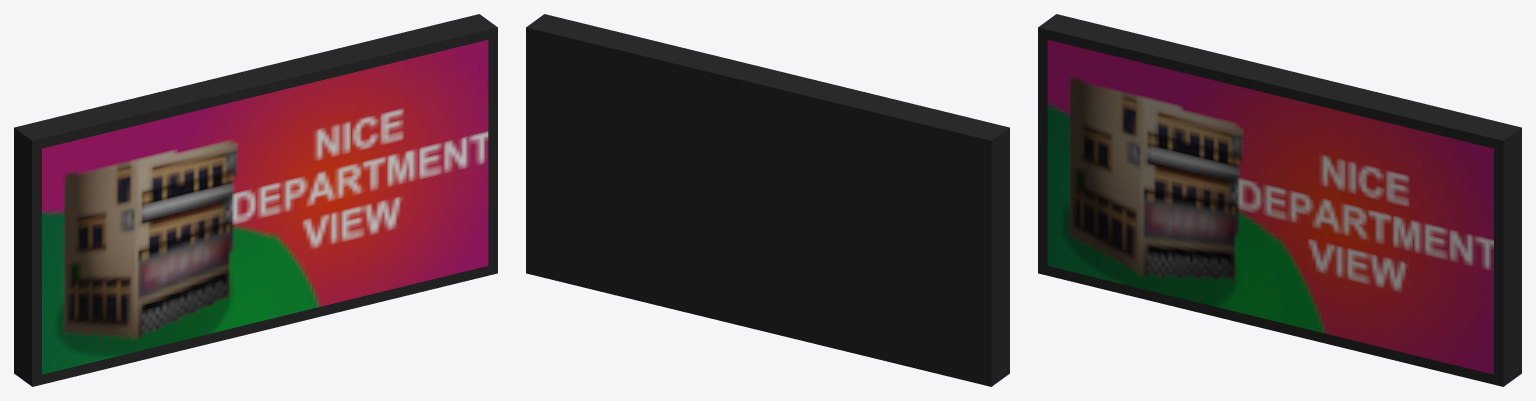
Rendered from AdWall.fbx.
3 views of the same model, side by side, from view 1: azimuth 30°, elevation 25°; view 2: azimuth 150°, elevation 25°; view 3: azimuth 330°, elevation 25° (orthographic).
Parts seen in each view (by area): view 1: Cube; view 2: Cube; view 3: Cube.
Part boxes in pixels (x1,y1,x2,y2): Cube: (14, 14, 497, 386); Cube: (526, 14, 1009, 386); Cube: (1038, 14, 1521, 386).
Bounding box in the file's own units: 802 × 405 × 54.87.
2 materials, 1 textured.
